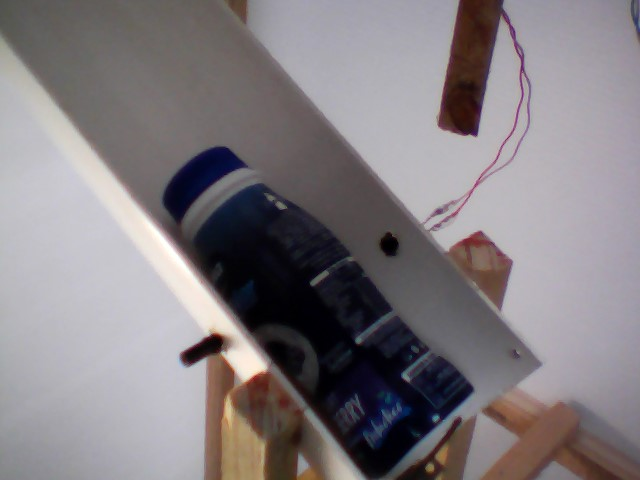plastico: (152, 137, 491, 480)
